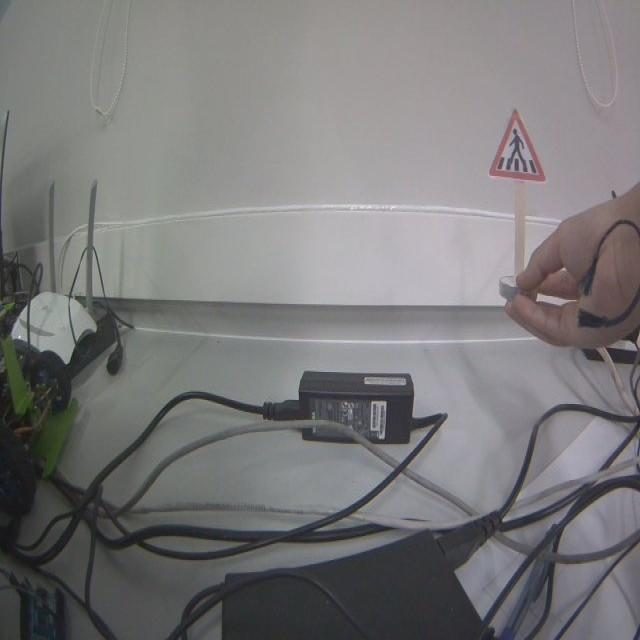Rambu Penyebrangan: (489, 110, 545, 182)
